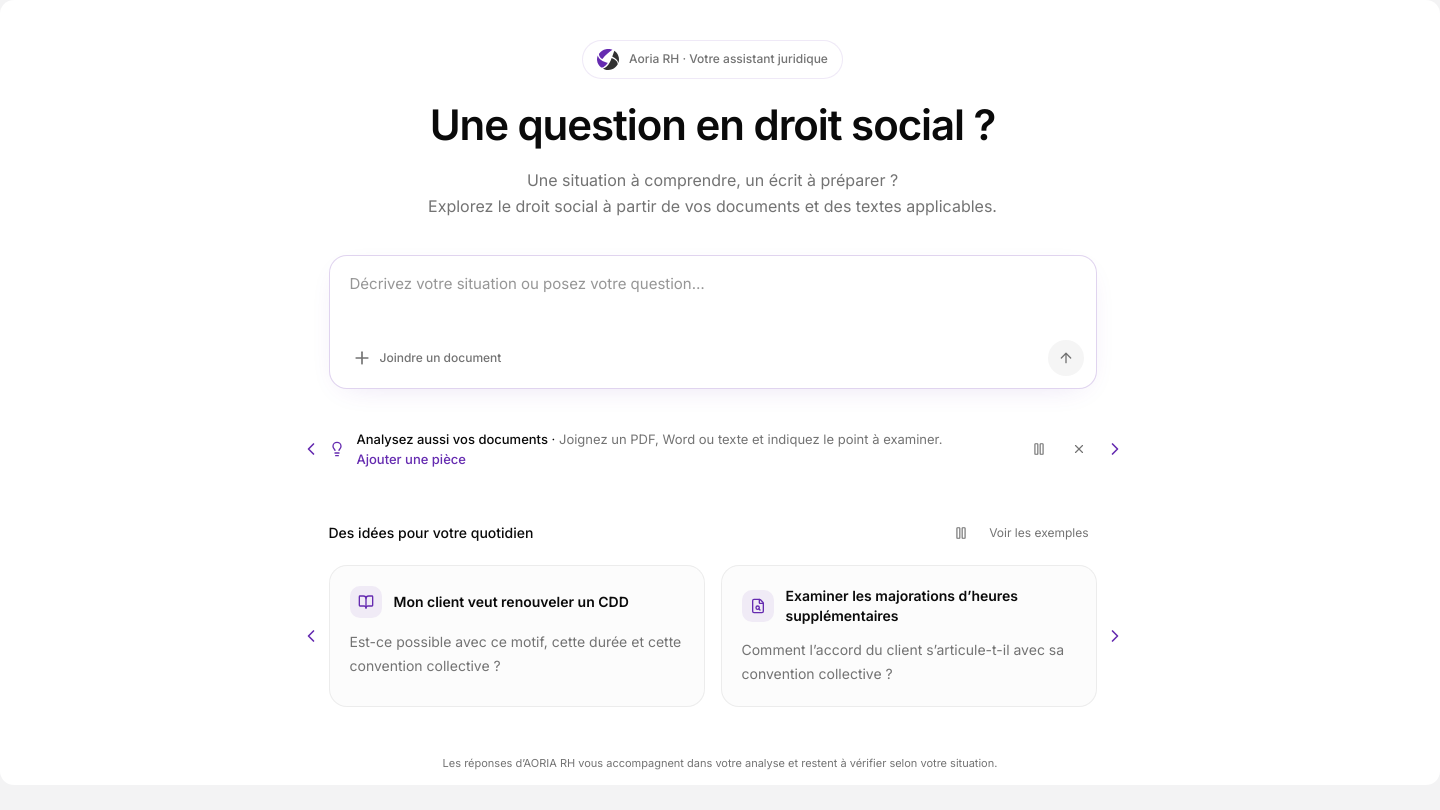
Test: shows the input, rotating ideas, then two carousel cards for expert_comptable
Step 1. Click the button "Mon client veut renouveler un CDD" → (516, 636), box [328,565,704,707]
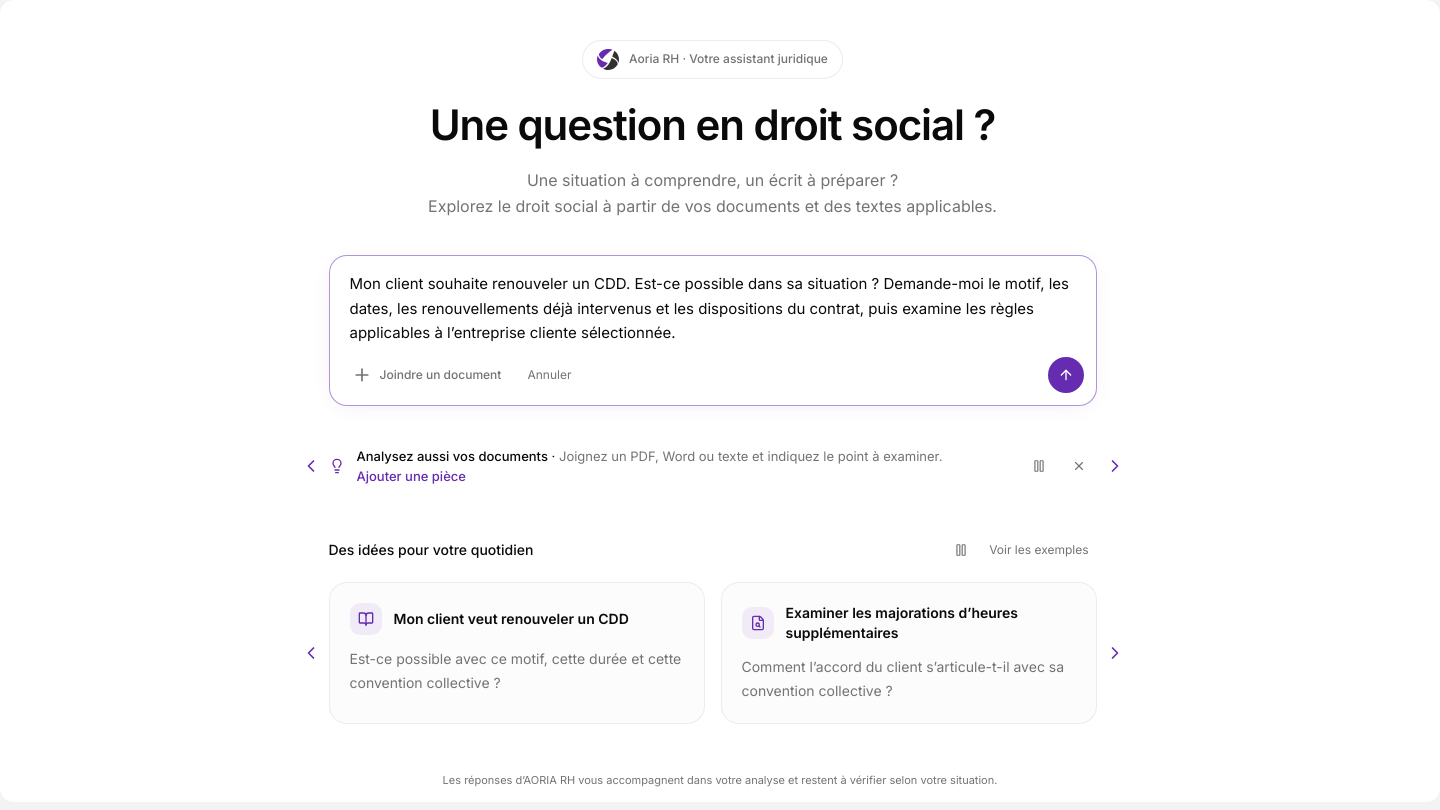
Result: the text box is not empty at [330,256,1096,353]
